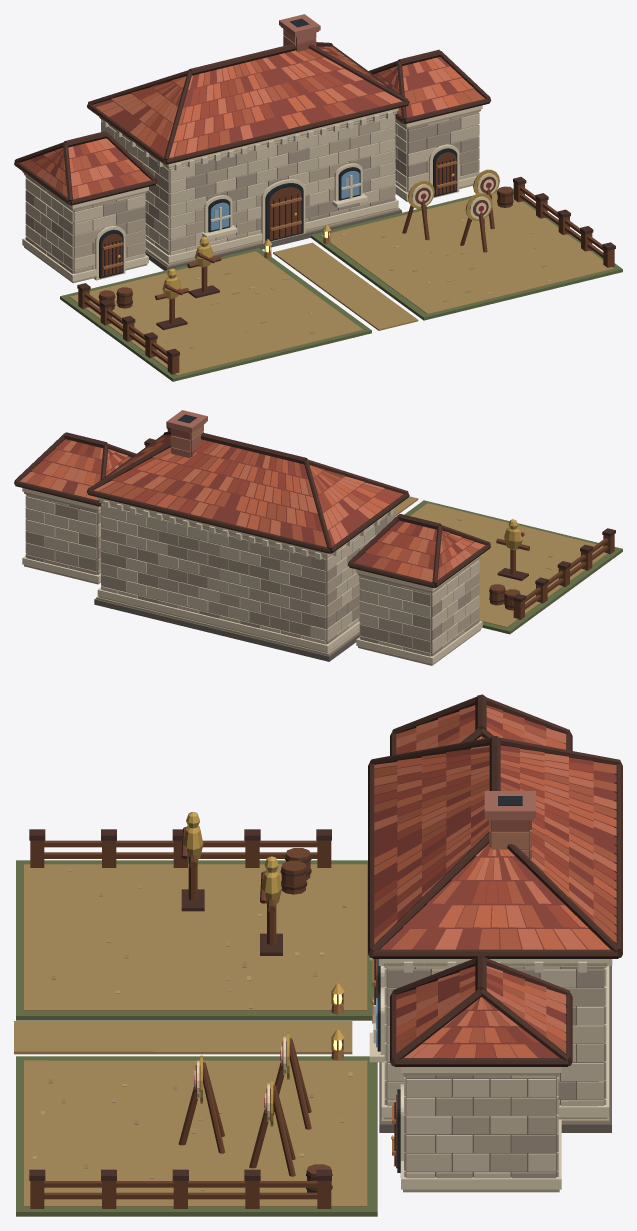
File: barracks-nivel-4.glb
3 renders of one model, top to bottom at view 1: azimuth 30°, elevation 25°; view 2: azimuth 150°, elevation 25°; view 3: azimuth 270°, elevation 25°, orthographic. The views are drawn at different scales.
Parts seen in each view (by area): view 1: Quartel dos lanceiros #ad8f5a, Quartel dos lanceiros #4c3028, Quartel dos lanceiros #853e33, Quartel dos lanceiros #dac9af, Quartel dos lanceiros #70432c, Quartel dos lanceiros #ae9d8b, Quartel dos lanceiros #c1af99, Quartel dos lanceiros #e6d7ba, Quartel dos lanceiros #d3c3a9, Quartel dos lanceiros #68744a, Quartel dos lanceiros #c06b4f, Quartel dos lanceiros #a8563c (+13 smaller); view 2: Quartel dos lanceiros #ae9d8b, Quartel dos lanceiros #c1af99, Quartel dos lanceiros #dac9af, Quartel dos lanceiros #4c3028, Quartel dos lanceiros #d3c3a9, Quartel dos lanceiros #853e33, Quartel dos lanceiros #ad8f5a, Quartel dos lanceiros #c06b4f, Quartel dos lanceiros #a8563c, Quartel dos lanceiros #bf6243, Quartel dos lanceiros #e6d7ba, Quartel dos lanceiros #9b4735 (+8 smaller); view 3: Quartel dos lanceiros #ad8f5a, Quartel dos lanceiros #4c3028, Quartel dos lanceiros #853e33, Quartel dos lanceiros #70432c, Quartel dos lanceiros #68744a, Quartel dos lanceiros #c06b4f, Quartel dos lanceiros #bf6243, Quartel dos lanceiros #a8563c, Quartel dos lanceiros #9b4735, Quartel dos lanceiros #dac9af, Quartel dos lanceiros #e6d7ba, Quartel dos lanceiros #c1af99 (+10 smaller).
Boxes of the visible parts, x1=… form: Quartel dos lanceiros #ad8f5a: x1=70, y1=192, x2=613, y2=375; Quartel dos lanceiros #4c3028: x1=14, y1=42, x2=615, y2=356; Quartel dos lanceiros #853e33: x1=30, y1=46, x2=473, y2=197; Quartel dos lanceiros #dac9af: x1=25, y1=114, x2=479, y2=269; Quartel dos lanceiros #70432c: x1=78, y1=152, x2=614, y2=374; Quartel dos lanceiros #ae9d8b: x1=25, y1=115, x2=478, y2=273; Quartel dos lanceiros #c1af99: x1=25, y1=111, x2=479, y2=273; Quartel dos lanceiros #e6d7ba: x1=22, y1=105, x2=482, y2=281; Quartel dos lanceiros #d3c3a9: x1=40, y1=113, x2=479, y2=269; Quartel dos lanceiros #68744a: x1=60, y1=186, x2=622, y2=381; Quartel dos lanceiros #c06b4f: x1=36, y1=48, x2=452, y2=197; Quartel dos lanceiros #a8563c: x1=20, y1=50, x2=484, y2=199; Quartel dos lanceiros #ae9d8b: x1=25, y1=503, x2=479, y2=656; Quartel dos lanceiros #c1af99: x1=25, y1=494, x2=479, y2=656; Quartel dos lanceiros #dac9af: x1=25, y1=494, x2=479, y2=652; Quartel dos lanceiros #4c3028: x1=14, y1=426, x2=615, y2=607; Quartel dos lanceiros #d3c3a9: x1=26, y1=503, x2=470, y2=649; Quartel dos lanceiros #853e33: x1=26, y1=435, x2=478, y2=578; Quartel dos lanceiros #ad8f5a: x1=395, y1=496, x2=607, y2=627; Quartel dos lanceiros #c06b4f: x1=20, y1=440, x2=485, y2=581; Quartel dos lanceiros #a8563c: x1=26, y1=438, x2=478, y2=579; Quartel dos lanceiros #bf6243: x1=38, y1=442, x2=471, y2=578; Quartel dos lanceiros #e6d7ba: x1=22, y1=488, x2=482, y2=664; Quartel dos lanceiros #9b4735: x1=31, y1=439, x2=452, y2=572; Quartel dos lanceiros #ad8f5a: x1=14, y1=864, x2=367, y2=1206; Quartel dos lanceiros #4c3028: x1=29, y1=694, x2=622, y2=1192; Quartel dos lanceiros #853e33: x1=374, y1=705, x2=616, y2=1057; Quartel dos lanceiros #70432c: x1=30, y1=840, x2=397, y2=1208; Quartel dos lanceiros #68744a: x1=16, y1=860, x2=377, y2=1216; Quartel dos lanceiros #c06b4f: x1=374, y1=705, x2=616, y2=1057; Quartel dos lanceiros #bf6243: x1=374, y1=711, x2=616, y2=1057; Quartel dos lanceiros #a8563c: x1=374, y1=714, x2=616, y2=1053; Quartel dos lanceiros #9b4735: x1=374, y1=711, x2=616, y2=1057; Quartel dos lanceiros #dac9af: x1=384, y1=967, x2=606, y2=1178; Quartel dos lanceiros #e6d7ba: x1=369, y1=957, x2=609, y2=1189; Quartel dos lanceiros #c1af99: x1=384, y1=967, x2=606, y2=1178.
Size of the model in its own units: 13.45 by 5.08 by 9.85.
